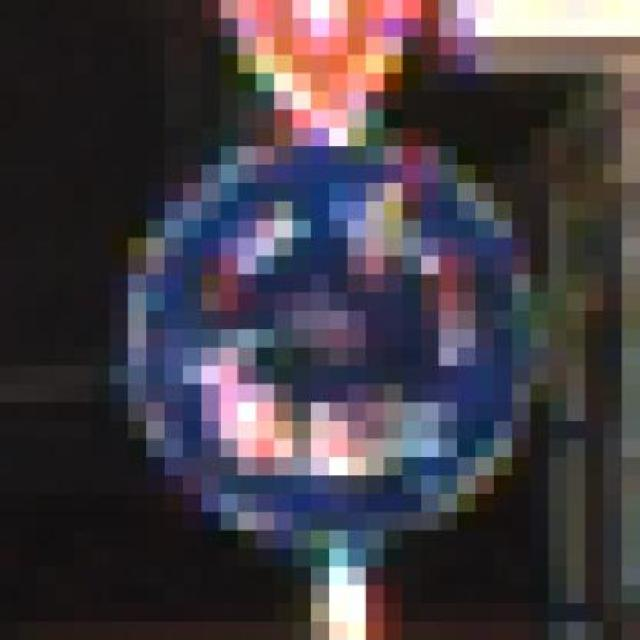Round-About: (36, 110, 622, 567)
